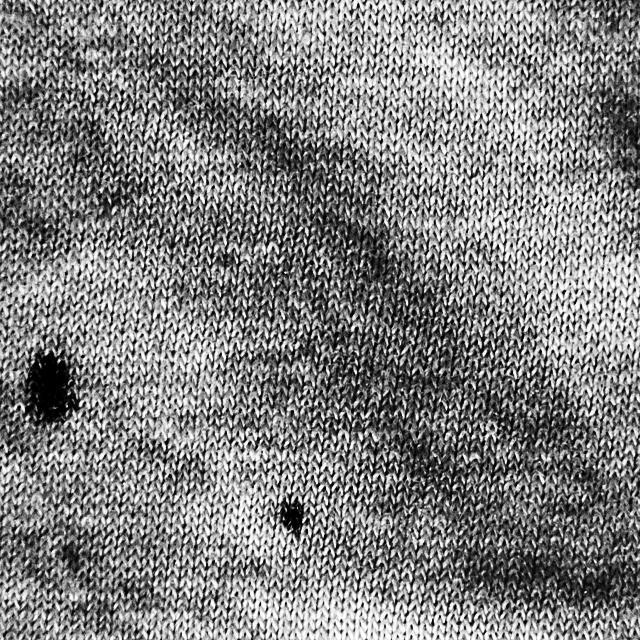Color_defect: (21, 346, 82, 432), (280, 495, 309, 538)
